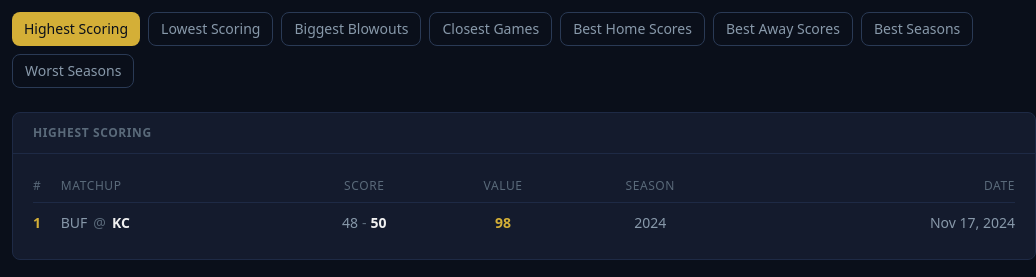
Test case: RecordsDashboard › switches to blowouts
What coordinates should you click on to do the following:
click the button "Biggest Blowouts"
I would click on:
 (351, 29)
Its box is [281,12,421,46].
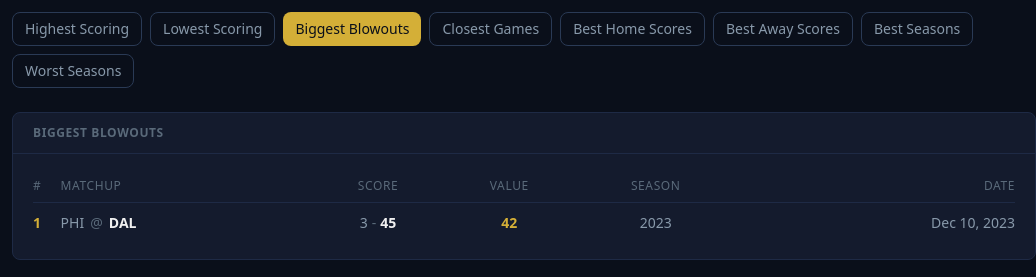
Expected: the text "42" is shown, [445,202,574,243]
Expected: the text "DAL" is shown, [109,213,136,232]
